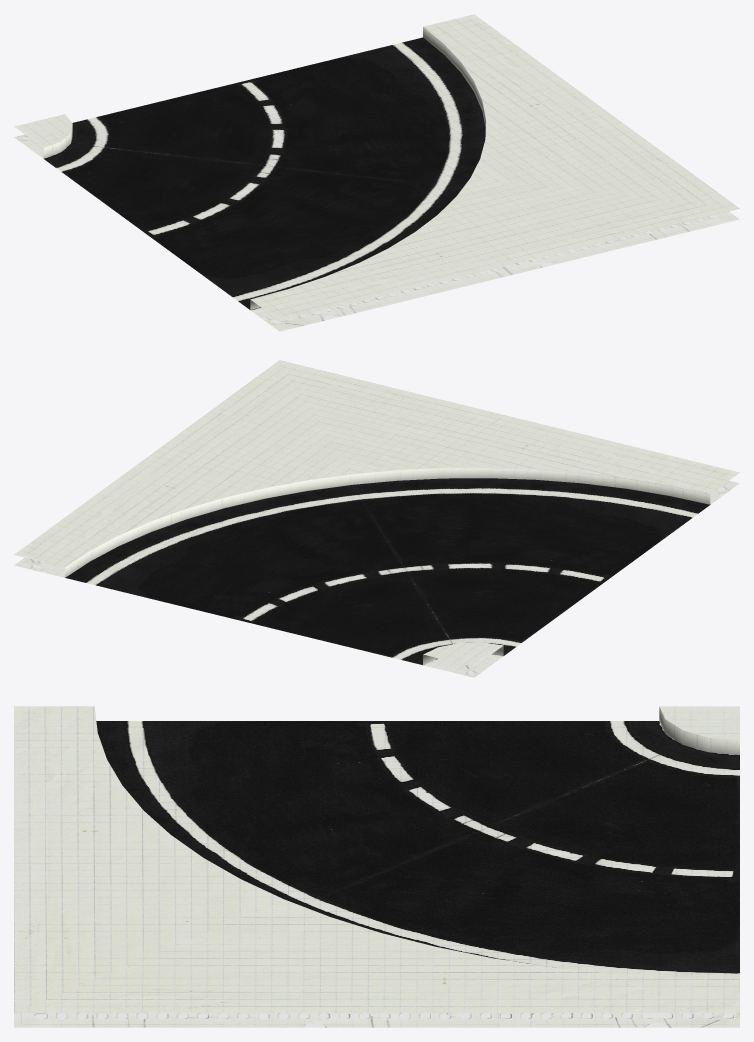
File: turn.fbx
The picture shows the model from 3 angles, top to bottom: view 1: azimuth 30°, elevation 25°; view 2: azimuth 150°, elevation 25°; view 3: azimuth 270°, elevation 25°; orthographic projection. The views are drawn at different scales.
Visible parts, largest first — view 1: Plane; view 2: Plane; view 3: Plane.
Boxes of the visible parts, x1,y1,x2,y2 form: Plane: (14,14,739,331); Plane: (14,360,739,677); Plane: (14,706,739,1027).
Size of the model in its own units: 4500 by 100 by 4500.
